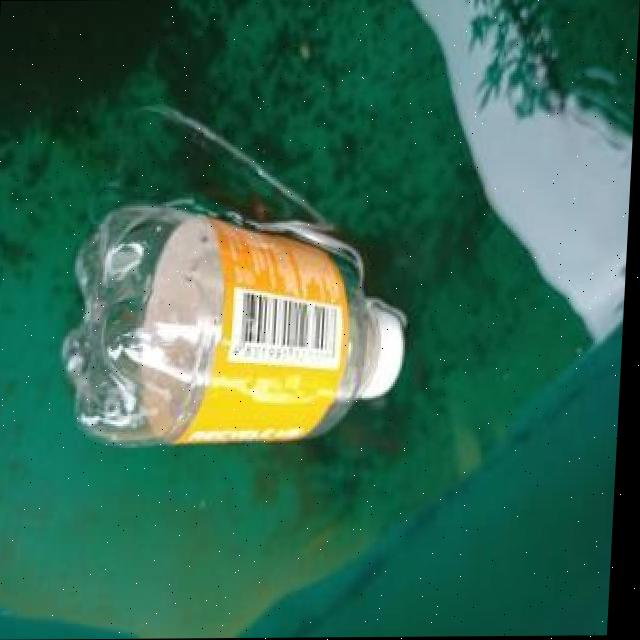bottle: (57, 196, 417, 450)
